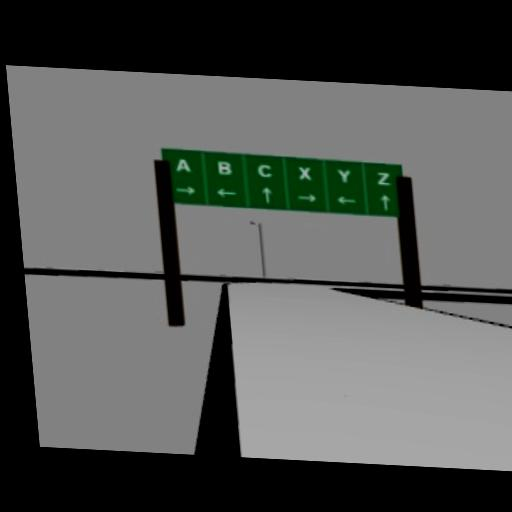A: (174, 158, 192, 174)
B: (216, 160, 232, 176)
C: (256, 162, 272, 178)
Left: (335, 195, 357, 206), (215, 187, 237, 198)
Right: (296, 192, 318, 203), (174, 185, 196, 194)
Straight: (260, 187, 272, 203), (379, 194, 391, 210)
X: (297, 165, 311, 181)
Y: (336, 167, 352, 183)
Z: (375, 171, 391, 185)
